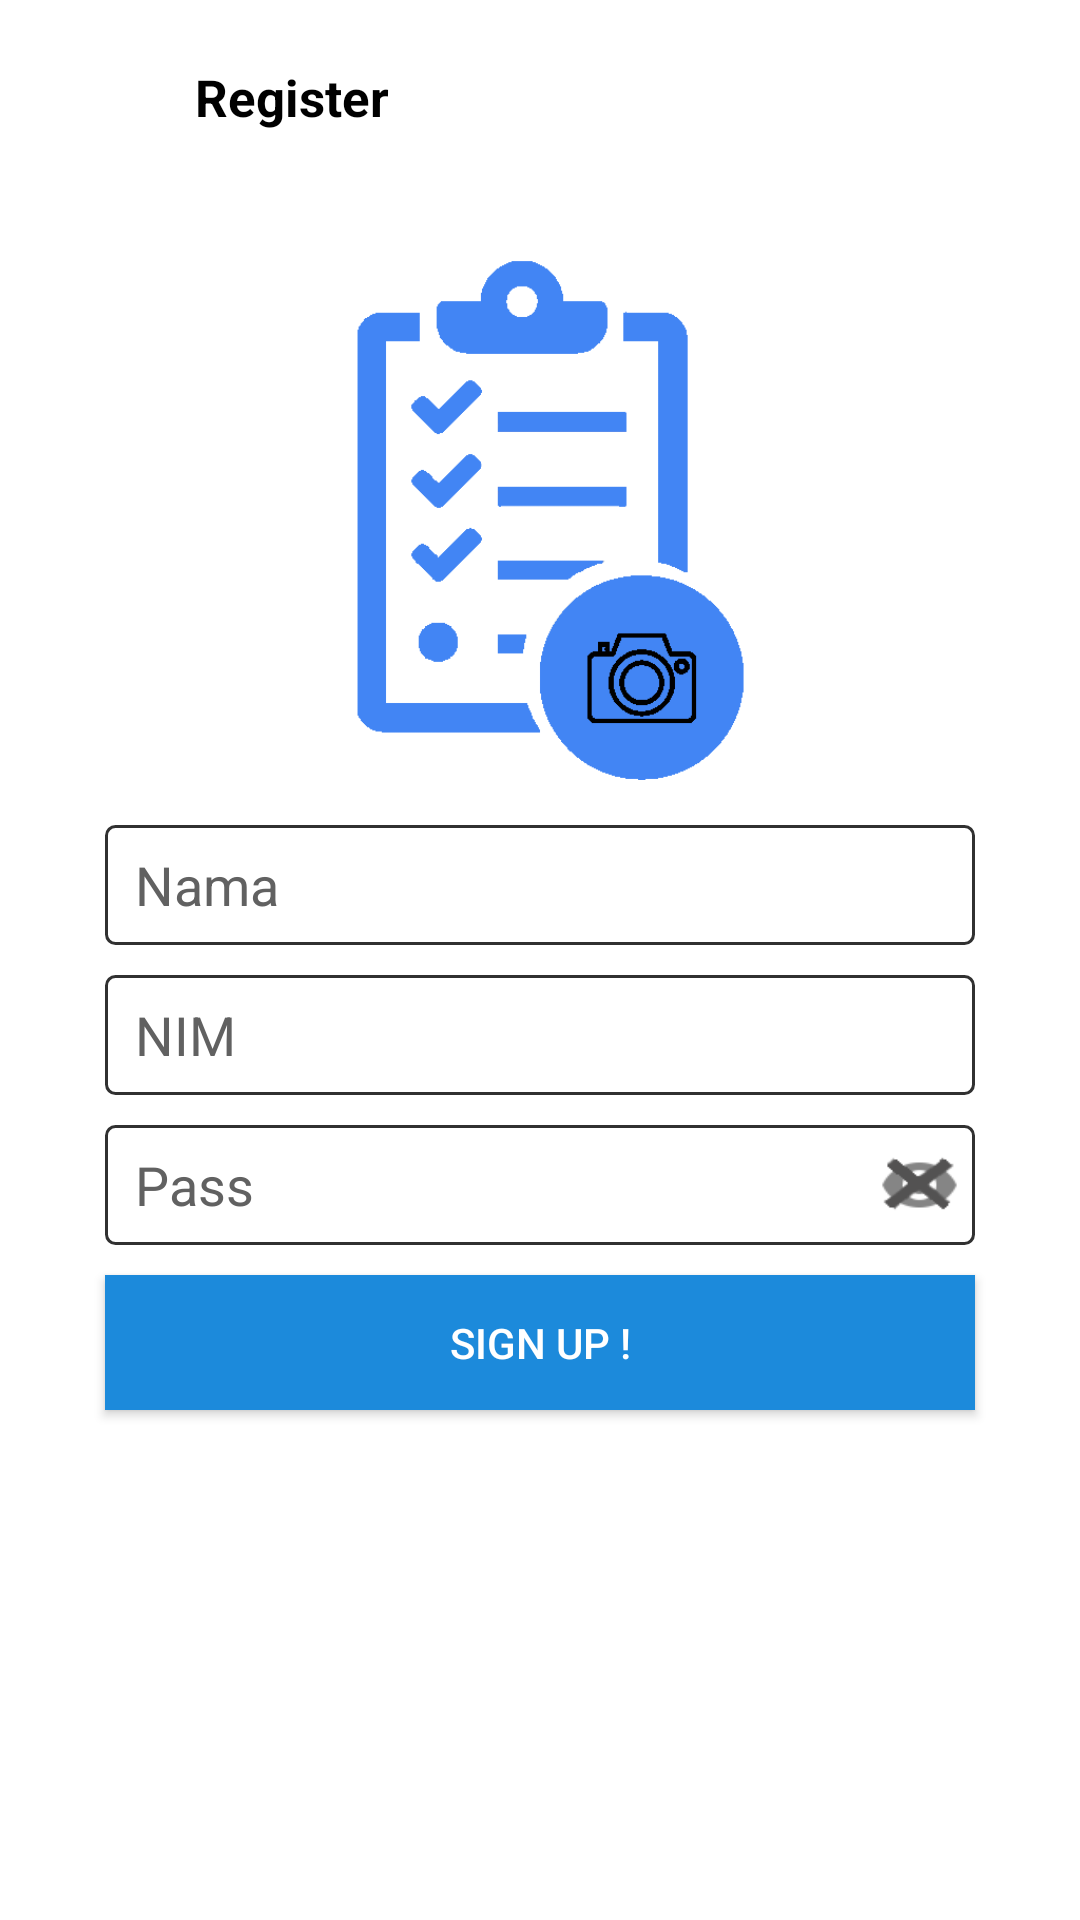

Where to tap for icons on this 1080*1920 app screen, as (x=x, y=y):
dont show: (x=919, y=1184)
